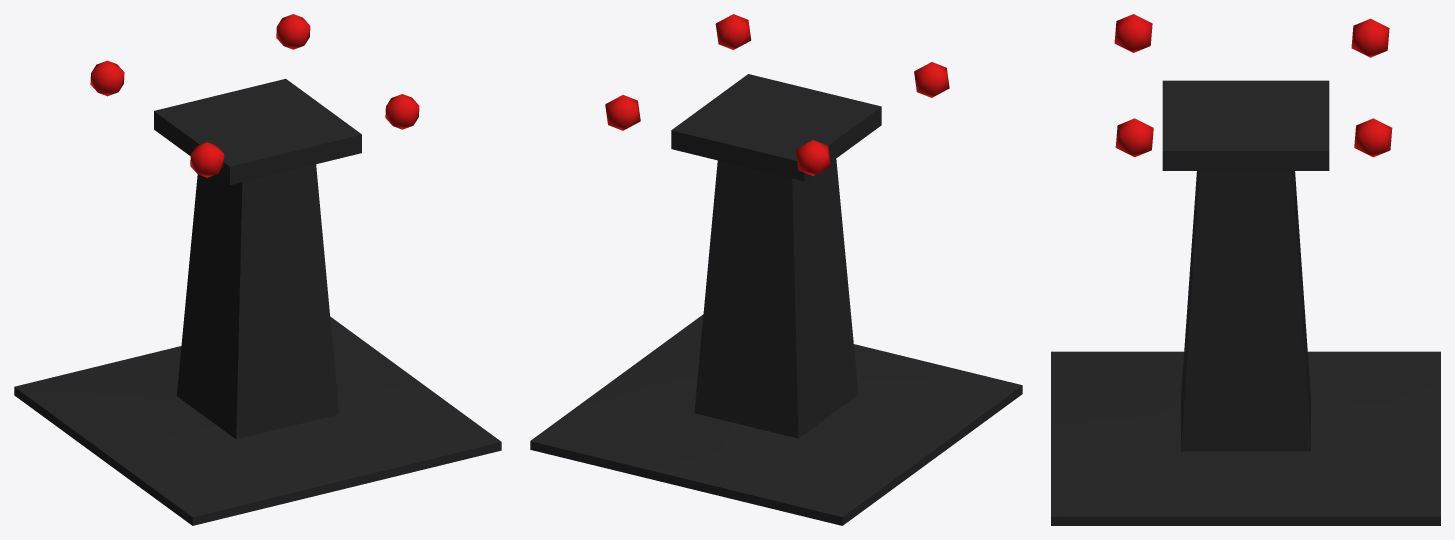
The model's file is GunStand.FBX.
The picture shows the model from 3 angles, left to right: view 1: azimuth 30°, elevation 25°; view 2: azimuth 150°, elevation 25°; view 3: azimuth 270°, elevation 25°; orthographic projection. The views are drawn at different scales.
Visible parts, largest first — view 1: Box001, GeoSphere001, GeoSphere004, GeoSphere003, GeoSphere002; view 2: Box001, GeoSphere001, GeoSphere003, GeoSphere004, GeoSphere002; view 3: Box001, GeoSphere004, GeoSphere003, GeoSphere001, GeoSphere002.
Part boxes in pixels (<box>): Box001: <box>14,78,501,525</box>; GeoSphere001: <box>276,14,310,49</box>; GeoSphere004: <box>385,94,419,129</box>; GeoSphere003: <box>90,60,124,96</box>; GeoSphere002: <box>190,142,224,177</box>; Box001: <box>530,74,1022,525</box>; GeoSphere001: <box>605,95,640,130</box>; GeoSphere003: <box>795,140,830,175</box>; GeoSphere004: <box>715,14,751,49</box>; GeoSphere002: <box>914,62,949,97</box>; Box001: <box>1051,80,1440,525</box>; GeoSphere004: <box>1115,118,1153,157</box>; GeoSphere003: <box>1351,18,1389,57</box>; GeoSphere001: <box>1354,118,1392,157</box>; GeoSphere002: <box>1114,14,1152,52</box>.
Size of the model in its own units: 39.71 by 42.18 by 39.71.
